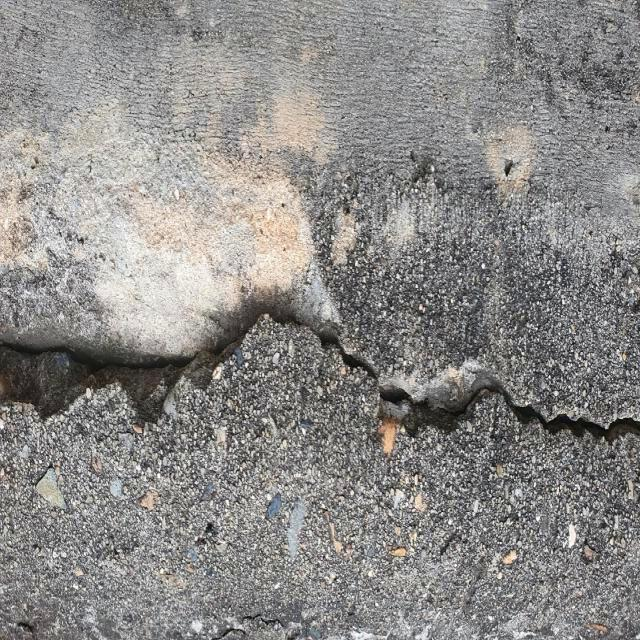SurfaceCrack: (1, 112, 639, 475)
